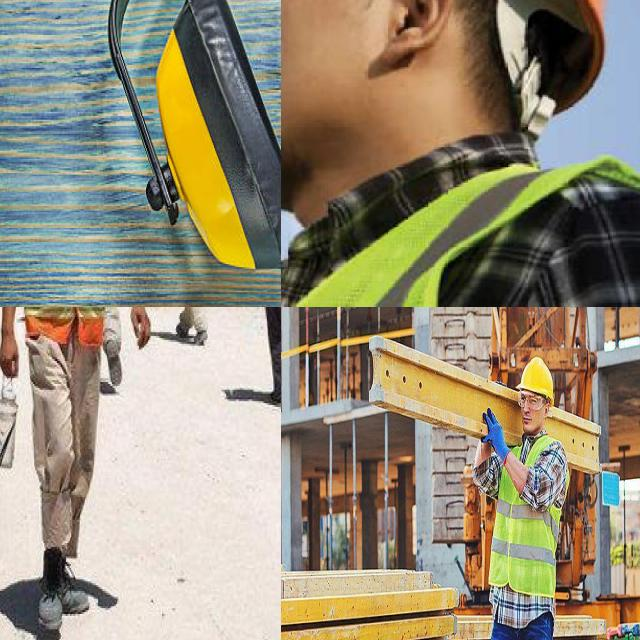Ear-protection: (74, 0, 281, 280)
No_Ear-Protection: (378, 0, 458, 64)
face_nomask: (521, 391, 548, 440)
glasses: (516, 388, 546, 412)
hand_glove: (476, 408, 512, 470)
hand_noglove: (127, 307, 155, 365), (0, 314, 22, 376)
head_helmet: (517, 354, 553, 404)
person: (17, 307, 136, 609), (483, 348, 573, 640)
shoes: (47, 545, 95, 620), (36, 539, 64, 633), (187, 314, 212, 352), (172, 312, 192, 345)
vest: (491, 436, 571, 601)
